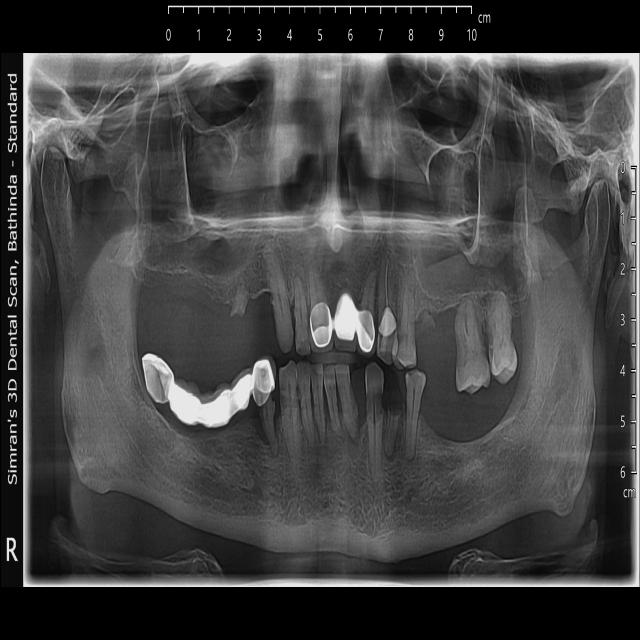Caries: (477, 319, 486, 358), (281, 392, 287, 416), (294, 387, 299, 409), (298, 386, 302, 407)
Crown: (141, 353, 174, 406), (200, 381, 235, 428), (168, 382, 203, 427), (334, 293, 357, 352), (310, 301, 334, 355), (252, 354, 276, 407), (229, 366, 253, 412), (356, 309, 378, 359)
Mandibular Canal: (404, 341, 579, 519), (97, 341, 264, 518)
Missing teeth: (420, 379, 502, 444), (437, 302, 459, 392)
Root Canal Treatment: (384, 255, 389, 312)
Root Piece: (383, 409, 401, 459), (230, 284, 249, 317), (416, 309, 435, 335)
maxillary sinus: (137, 87, 273, 279), (393, 122, 530, 301)
